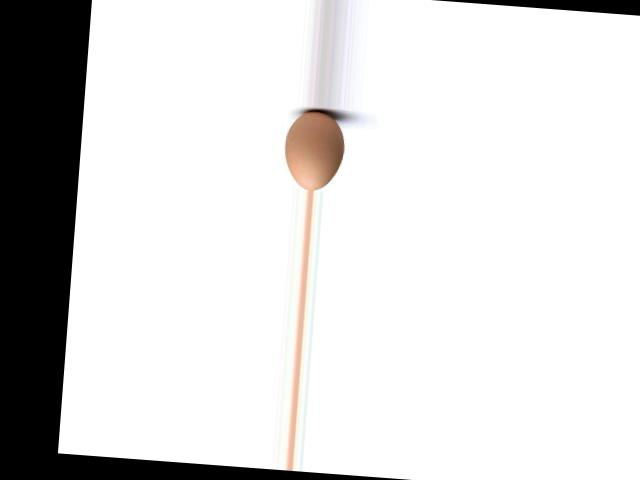egg: (281, 108, 346, 191)
